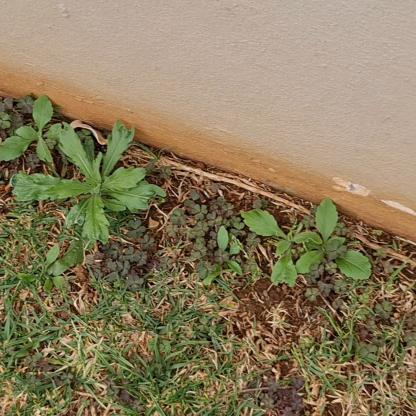Weeds: (9, 122, 168, 246), (241, 206, 324, 291), (298, 197, 372, 282), (0, 95, 69, 169)
